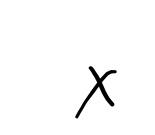mult: (75, 66, 117, 118)
